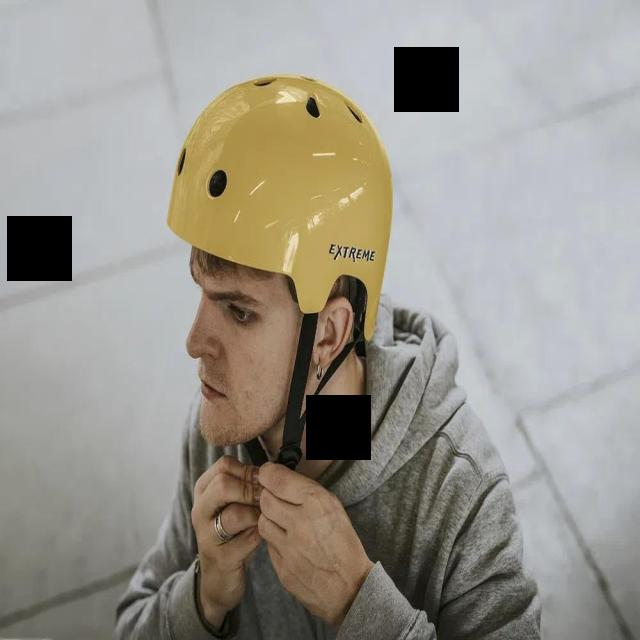Helmet: (168, 74, 394, 449)
